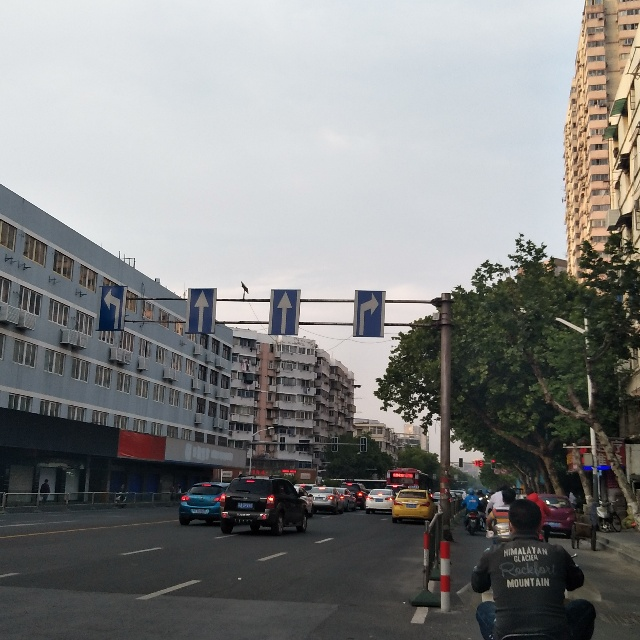left: (97, 280, 121, 327)
right: (358, 286, 384, 334)
straight: (273, 285, 297, 332), (194, 294, 210, 332)
